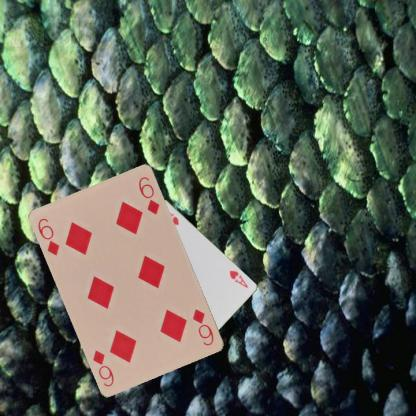6d: (190, 306, 216, 348), (35, 216, 61, 257)
Ah: (227, 267, 249, 289)
